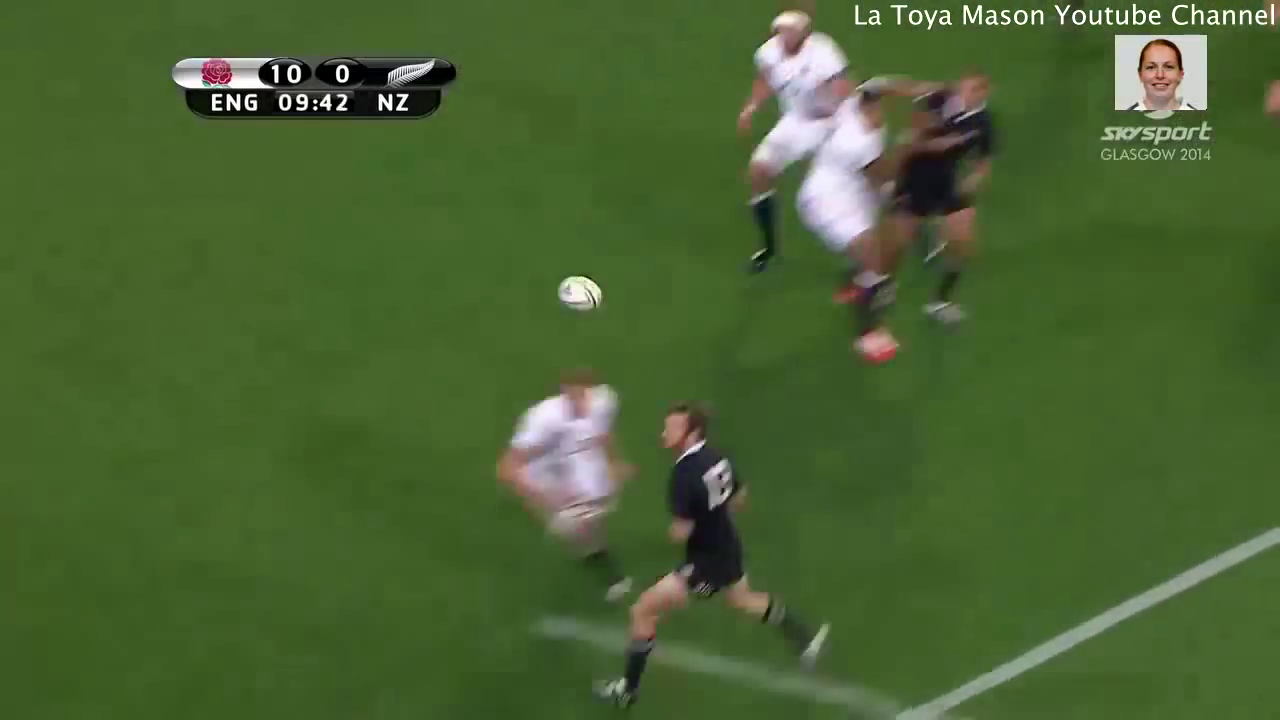ball: (549, 270, 609, 318)
player: (578, 401, 839, 716), (789, 72, 918, 359), (495, 372, 644, 612), (727, 7, 853, 284), (885, 61, 1007, 333)
